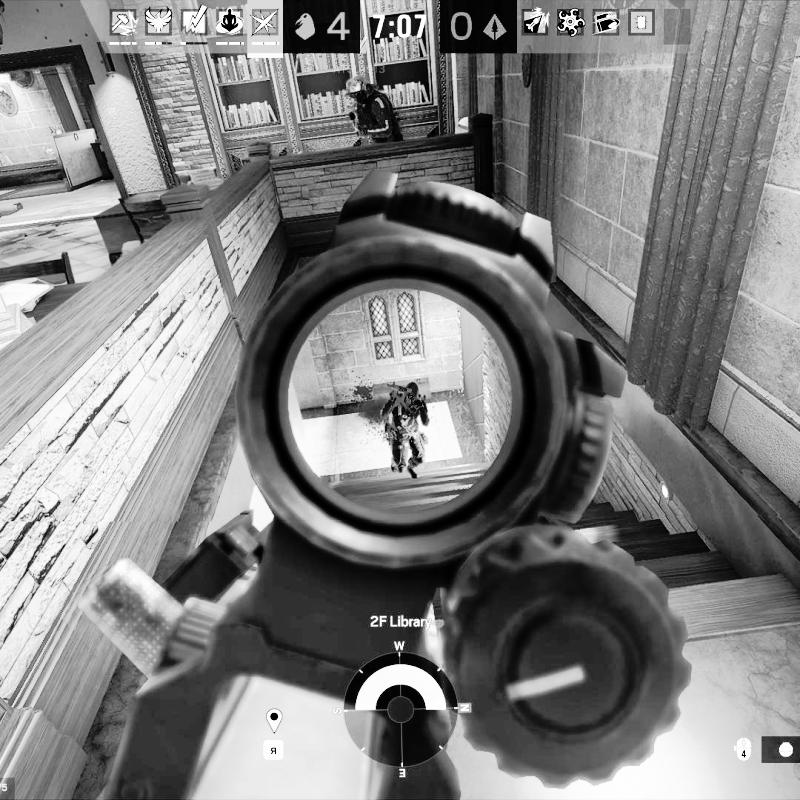Character: (379, 377, 430, 479), (342, 76, 400, 152)
Friend_label: (330, 36, 387, 74)
Head: (349, 75, 375, 100), (406, 380, 421, 400)
